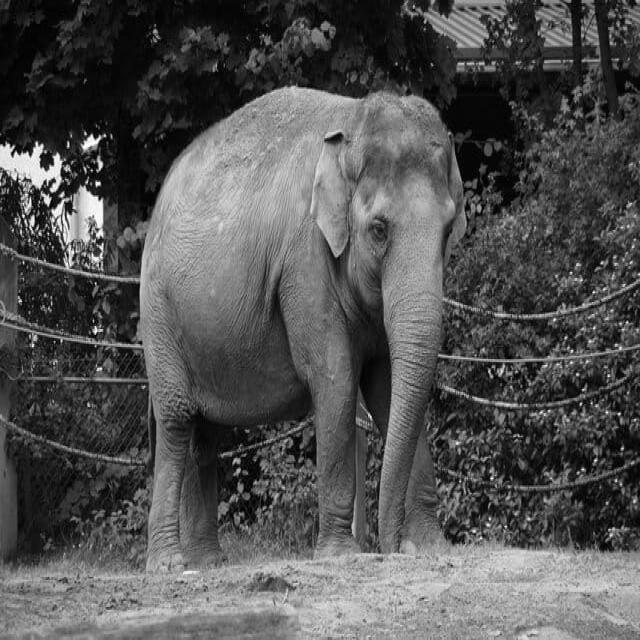Elephant: (138, 83, 467, 574)
